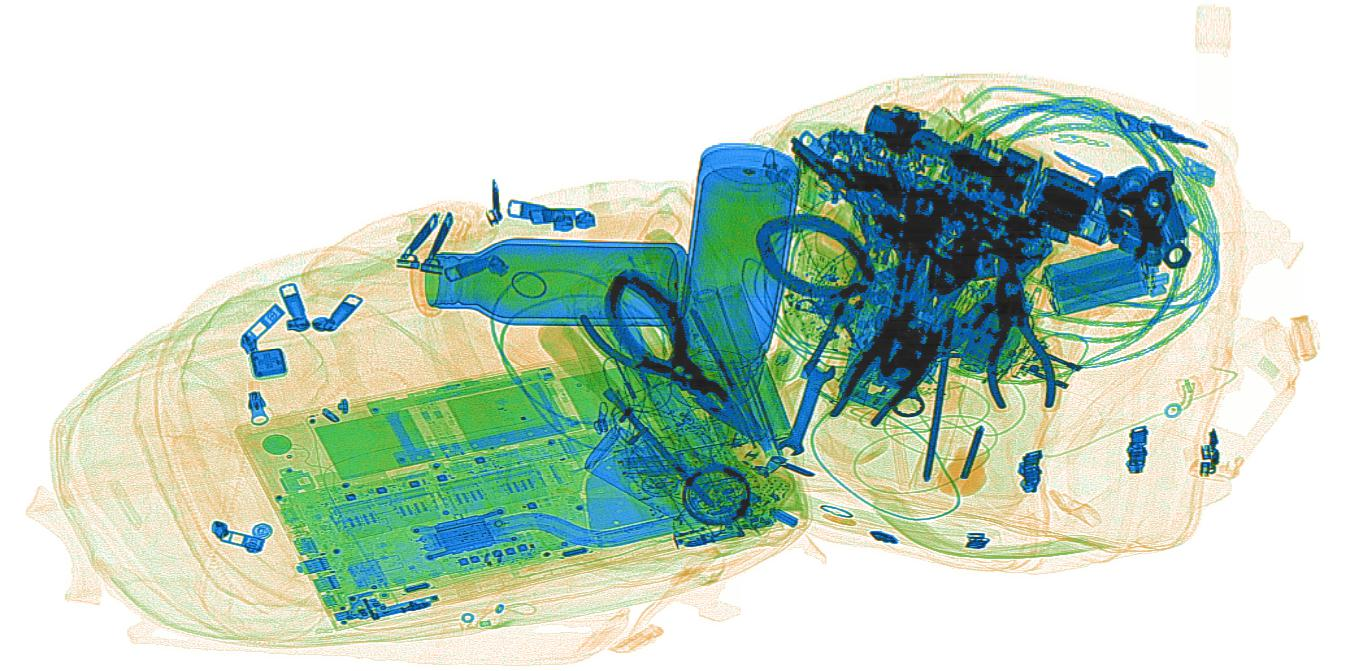battery: (665, 278, 795, 447), (1039, 236, 1152, 319), (958, 282, 1037, 379)
